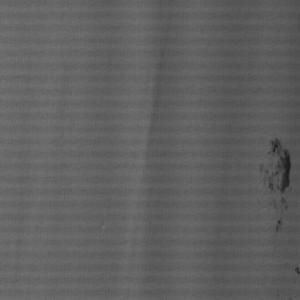Stain: (259, 136, 300, 300)
Wrinkle: (129, 1, 249, 300)
